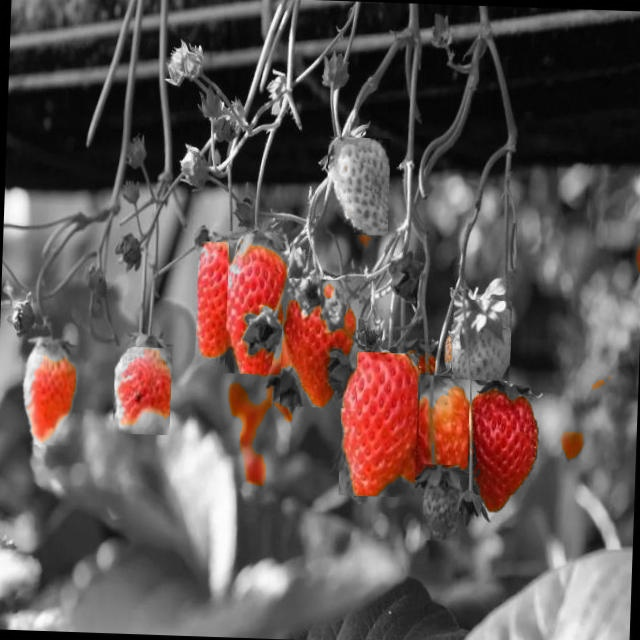ripe: (338, 350, 418, 498), (279, 277, 359, 408), (224, 231, 290, 375), (468, 383, 542, 510), (19, 334, 81, 446), (112, 346, 172, 435), (417, 374, 470, 470), (195, 241, 237, 357)
unripe: (325, 136, 390, 235), (452, 298, 512, 381), (419, 464, 460, 541)
